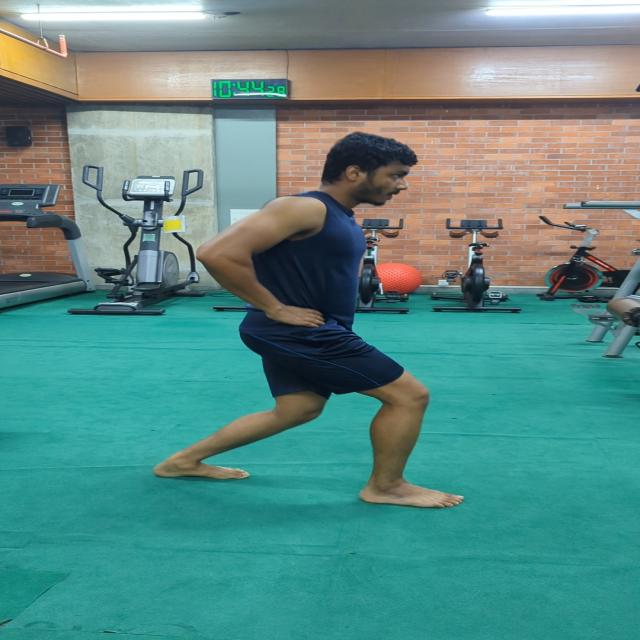Normal_Lunges: (131, 122, 475, 515)
